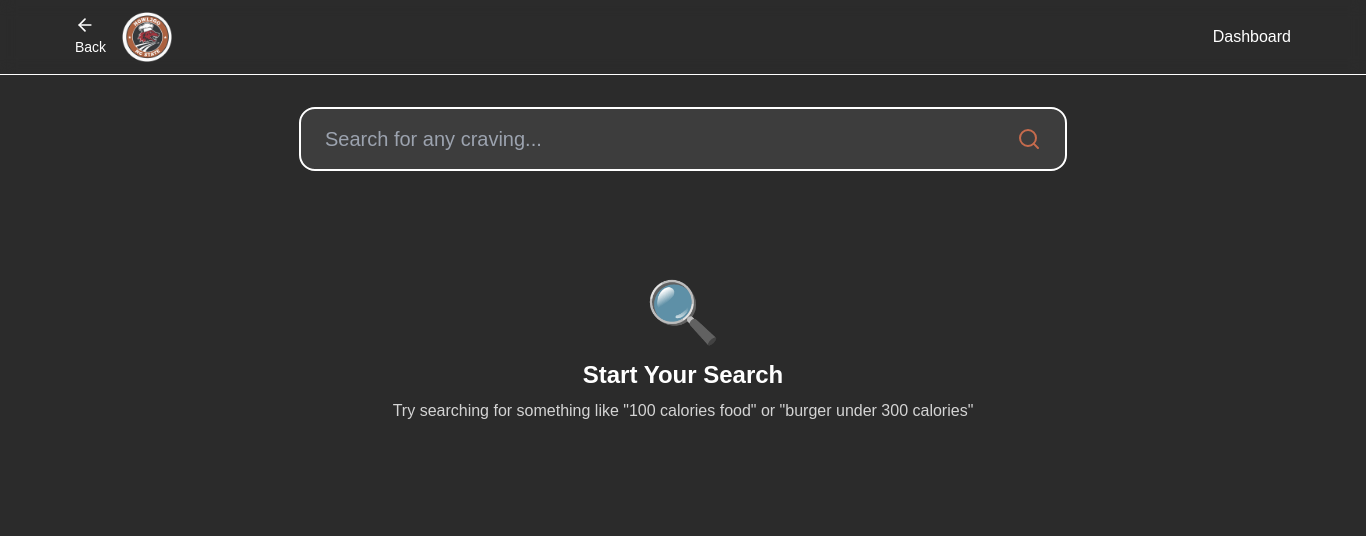
it: Search Page › API Integration › handles 400 error with helpful message
This screenshot has width=1366, height=536.
Type "bad" into the field named "Search for food".
click(667, 139); type("bad")  # box [325, 125, 1009, 153]
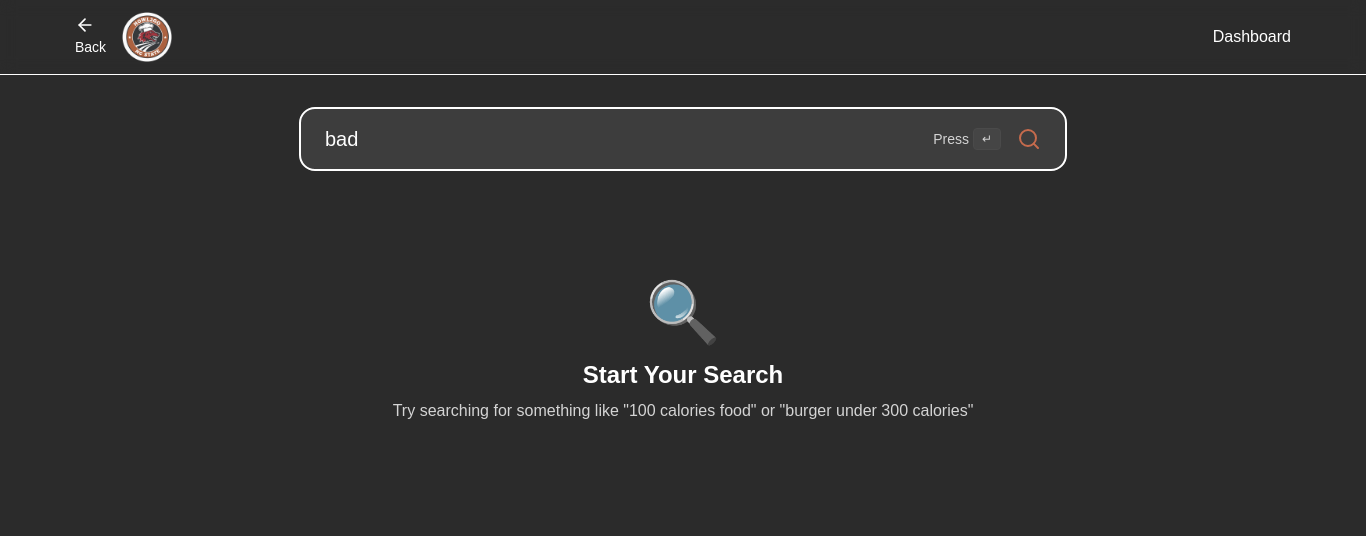
Submit the form named "Search for food", box [299, 107, 1067, 171]
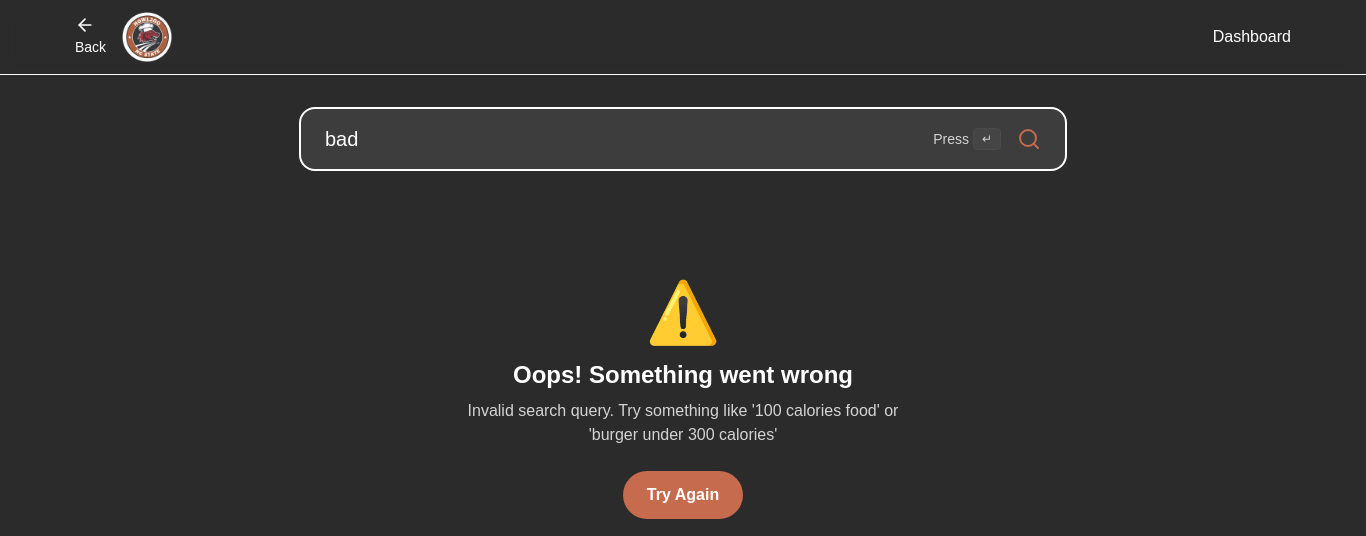
Expected: the text "Invalid search query" is shown, [468, 402, 898, 443]
